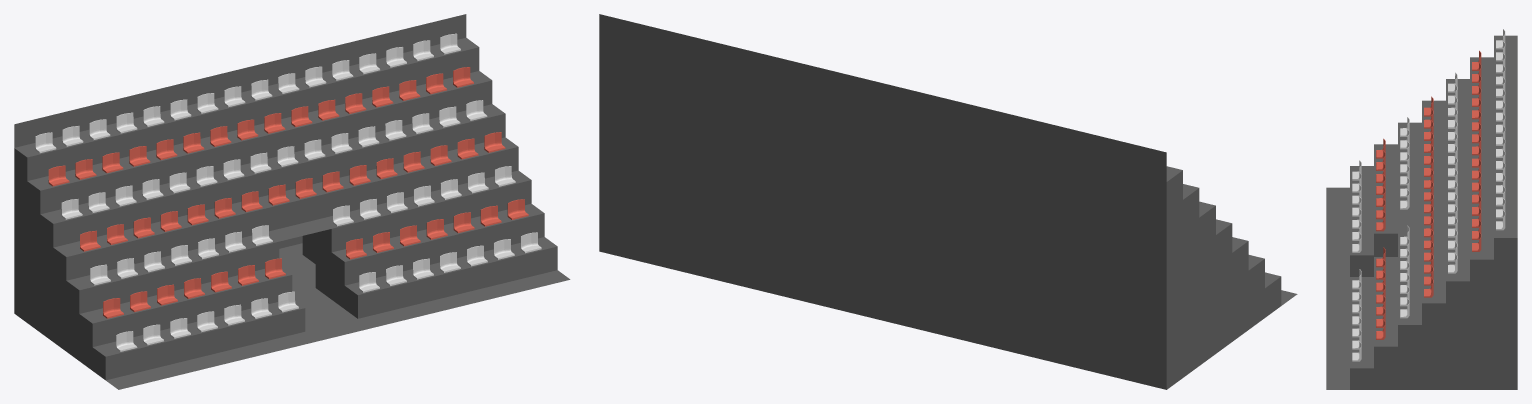
File: grada1.fbx
3 views of the same model, side by side, from view 1: azimuth 30°, elevation 25°; view 2: azimuth 150°, elevation 25°; view 3: azimuth 270°, elevation 25° (orthographic). The views are drawn at different scales.
Parts seen in each view (by area): view 1: Grada, Cube.001, Cube.003, Cube.002, Cube, Cube.004, Cube.006, Cube.005; view 2: Grada; view 3: Grada, Cube.003, Cube.001, Cube, Cube.002, Cube.005, Cube.004, Cube.006.
Part boxes in pixels (bbox=[...]): Grada: bbox=[14, 14, 570, 389]; Cube.001: bbox=[61, 100, 487, 219]; Cube.003: bbox=[35, 33, 460, 153]; Cube.002: bbox=[48, 67, 473, 186]; Cube: bbox=[80, 132, 505, 251]; Cube.004: bbox=[90, 166, 515, 285]; Cube.006: bbox=[103, 199, 528, 318]; Cube.005: bbox=[116, 232, 541, 351]; Grada: bbox=[599, 14, 1297, 389]; Grada: bbox=[1326, 35, 1517, 389]; Cube.003: bbox=[1496, 29, 1505, 230]; Cube.001: bbox=[1448, 72, 1457, 273]; Cube: bbox=[1424, 96, 1433, 297]; Cube.002: bbox=[1472, 50, 1481, 251]; Cube.005: bbox=[1352, 160, 1361, 361]; Cube.004: bbox=[1400, 117, 1409, 318]; Cube.006: bbox=[1376, 138, 1385, 339].
Bounding box in the file's own units: 25 × 10 × 10.
